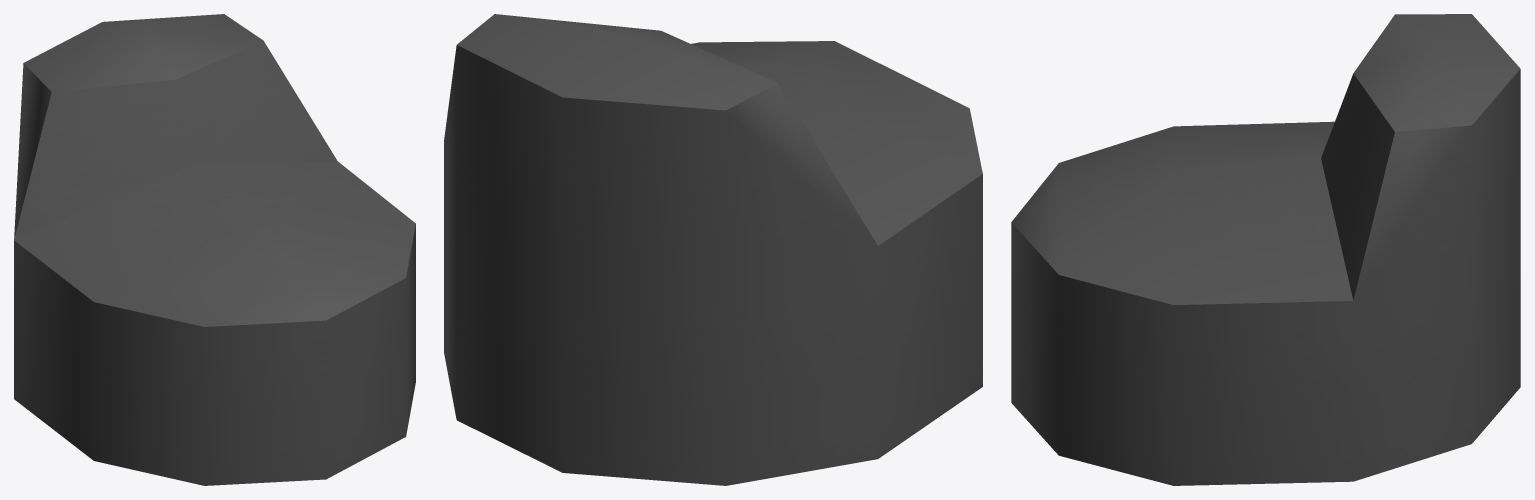
File: I_hat_1_lvl.fbx
3 views of the same model, side by side, from view 1: azimuth 30°, elevation 25°; view 2: azimuth 150°, elevation 25°; view 3: azimuth 270°, elevation 25° (orthographic). The views are drawn at different scales.
Visible parts, largest first — view 1: I_hat_1_lvl; view 2: I_hat_1_lvl; view 3: I_hat_1_lvl.
Part boxes in pixels (left/top/right/bottom): I_hat_1_lvl: left=14, top=14, right=415, bottom=485; I_hat_1_lvl: left=444, top=14, right=982, bottom=485; I_hat_1_lvl: left=1011, top=14, right=1520, bottom=485.
Size of the model in its own units: 54.08 by 50.78 by 64.75.
